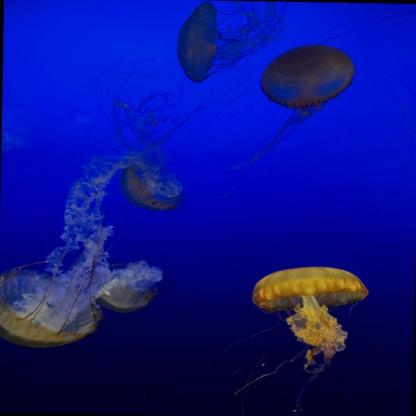jellyfish: (0, 268, 98, 350), (260, 42, 354, 110), (251, 264, 370, 314), (174, 0, 220, 84), (116, 161, 182, 215), (92, 274, 160, 314)
